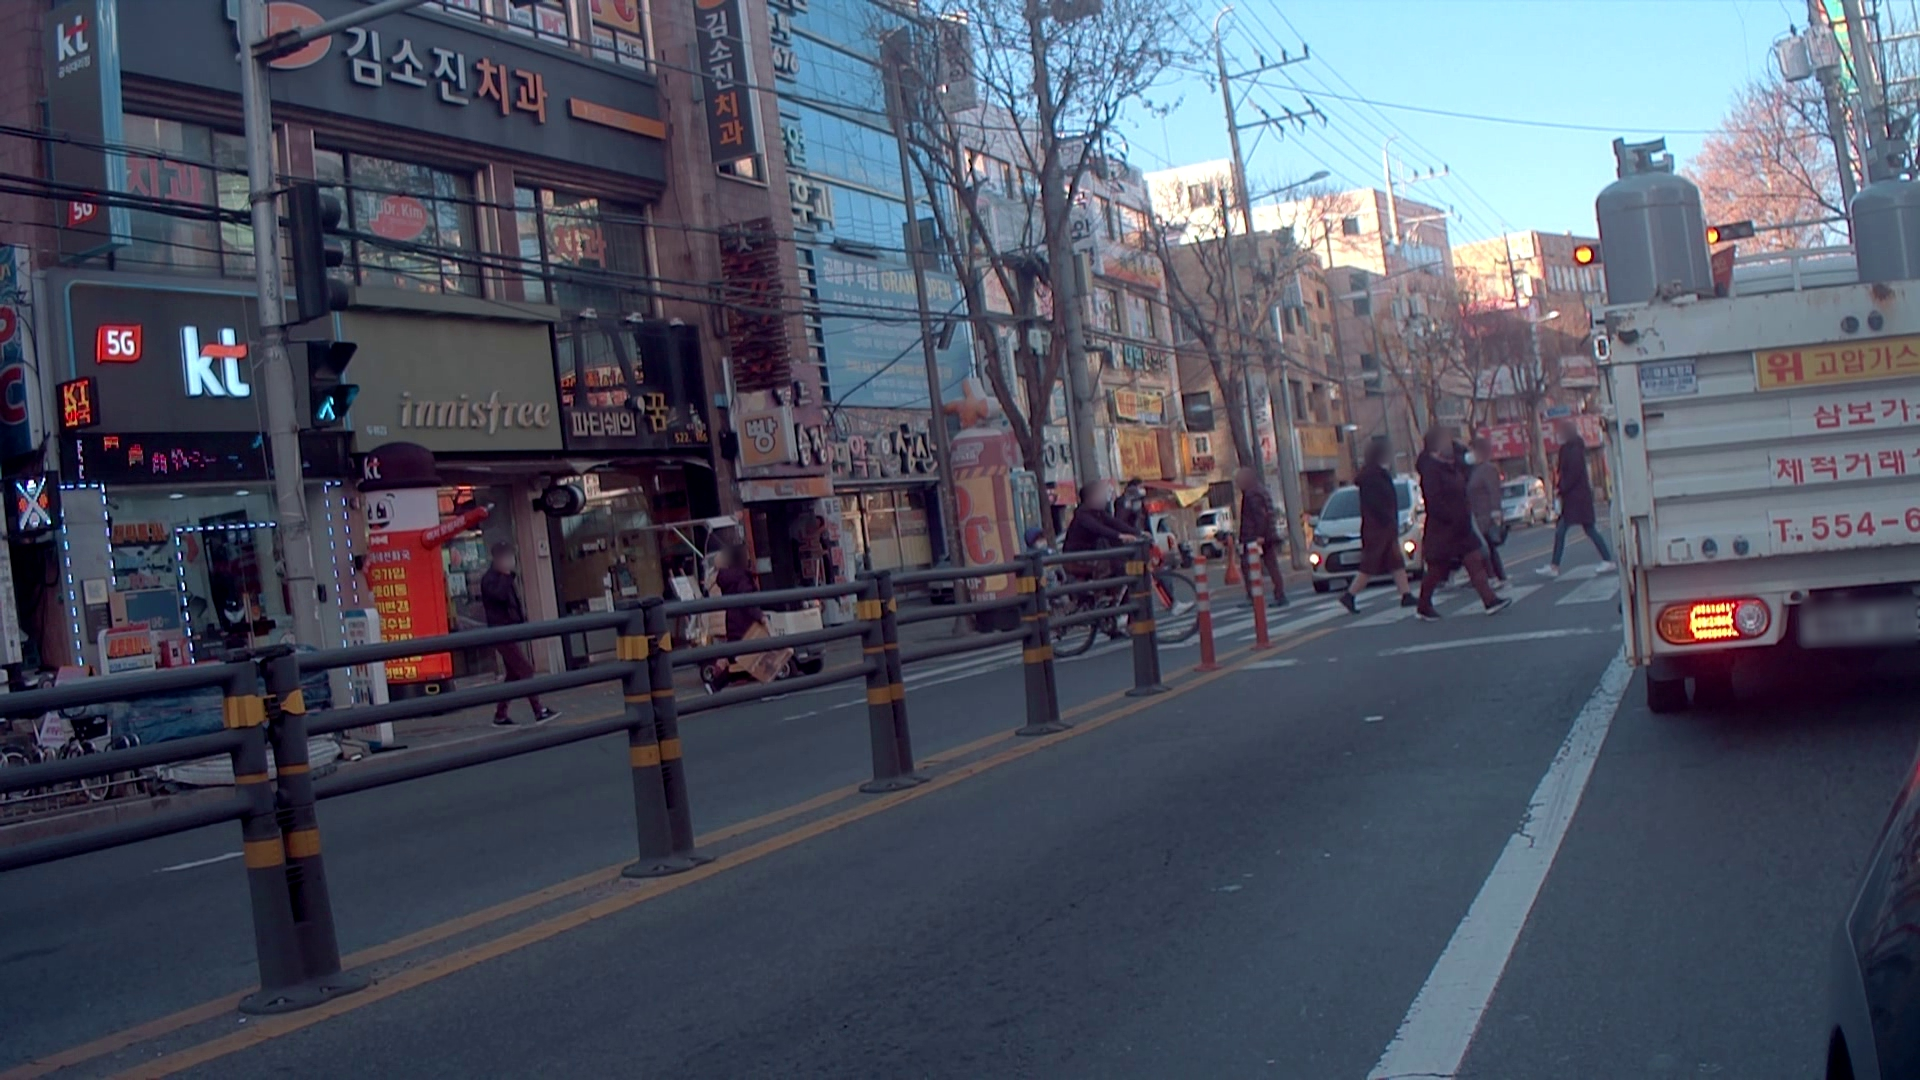trafficLight: (1701, 218, 1758, 245), (1575, 240, 1610, 266)
trafficLightBar: (284, 181, 355, 319), (301, 338, 357, 485)
